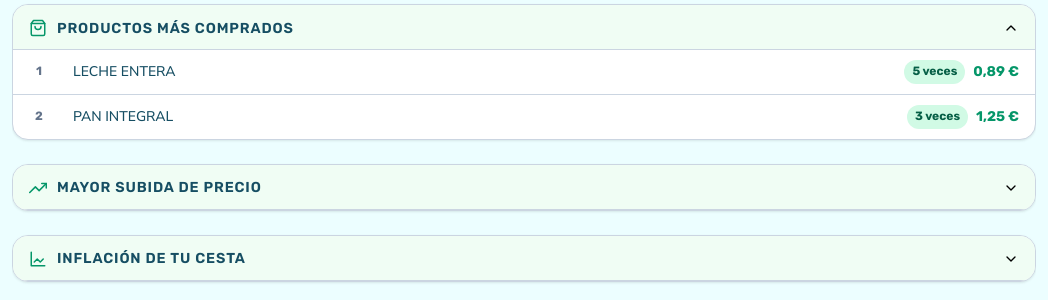
Analytics › opens a section when its header is clicked
Expected: the heading "Mayor subida de precio" is shown, x1=57 y1=180 x2=262 y2=196
Click the button "Mayor subida de precio" at (159, 188), box x1=13 y1=165 x2=1035 y2=210
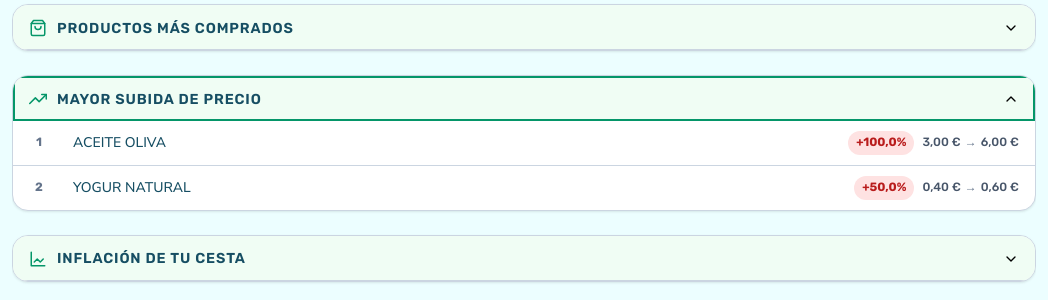
Result: the button "Mayor subida de precio" is expanded at x1=13 y1=76 x2=1035 y2=121
